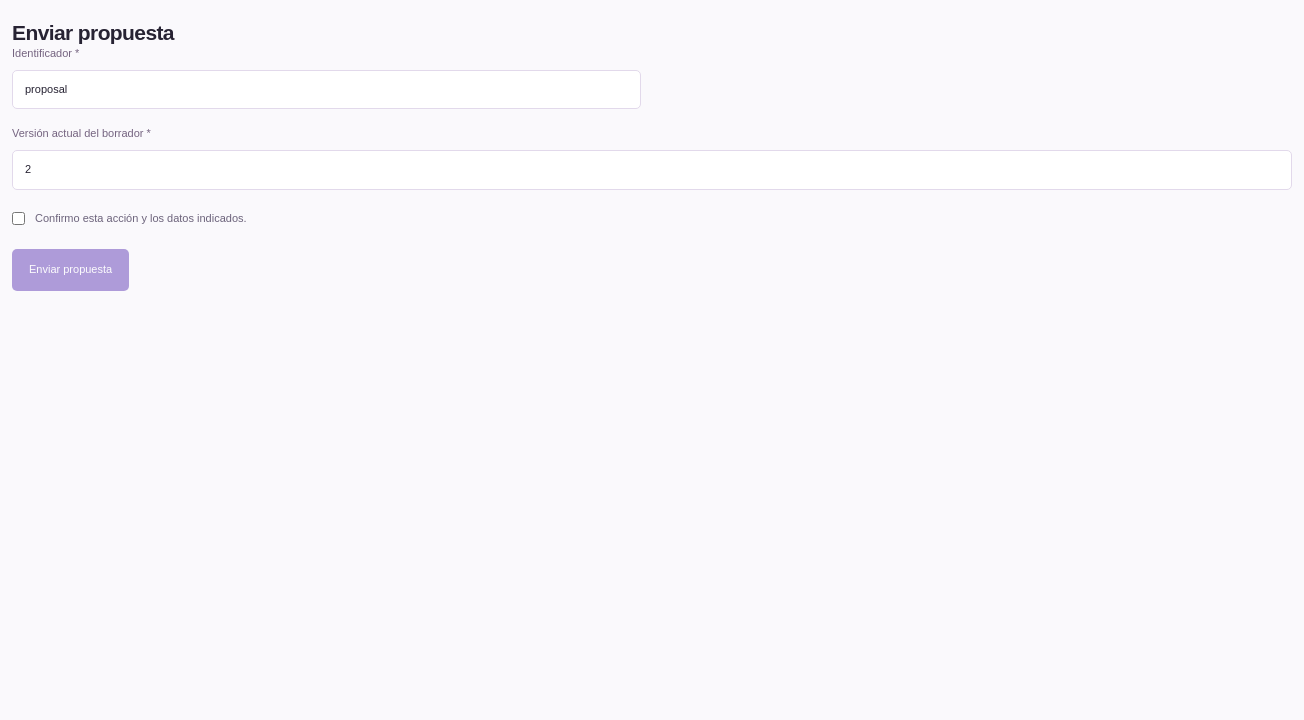
Test case: contribuciones y privacidad › reintentar un envío conserva la clave de idempotencia y no anuncia publicación
Click the checkbox at coordinates (18, 218), box [12,212,25,225]
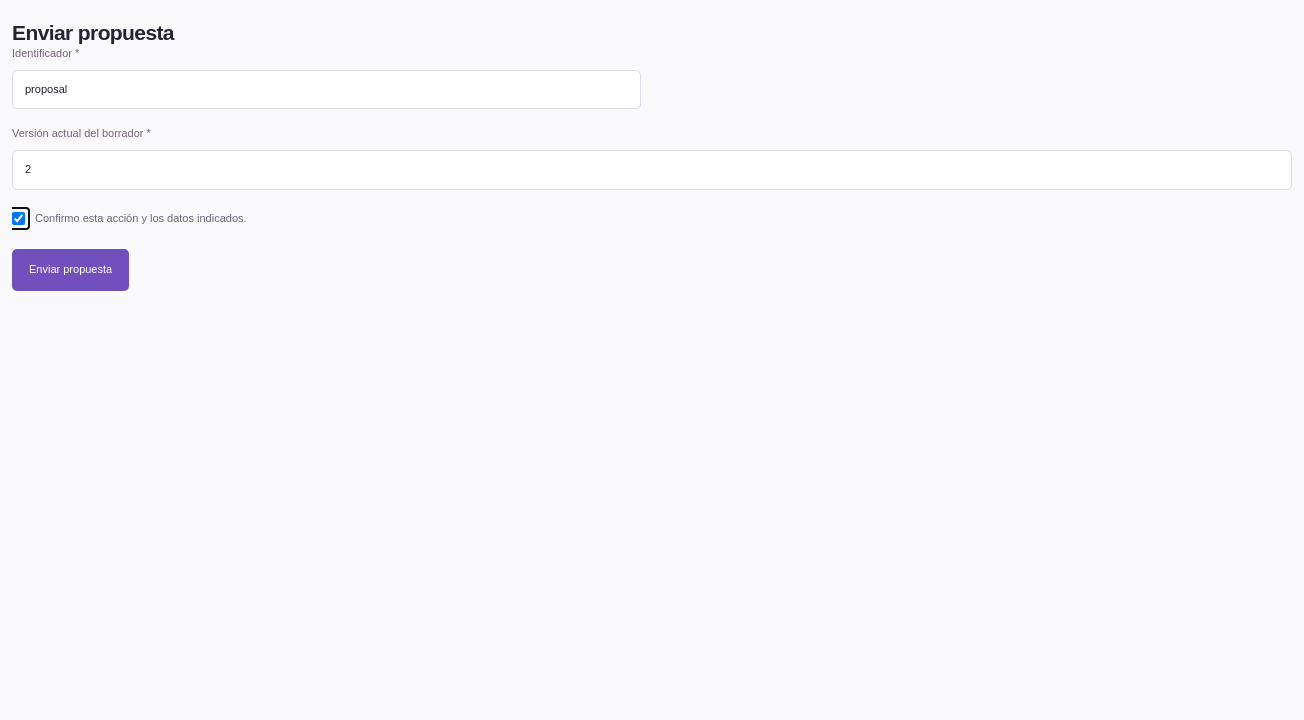
Click the button "Enviar propuesta" at coordinates (71, 270), box [12,249,129,291]
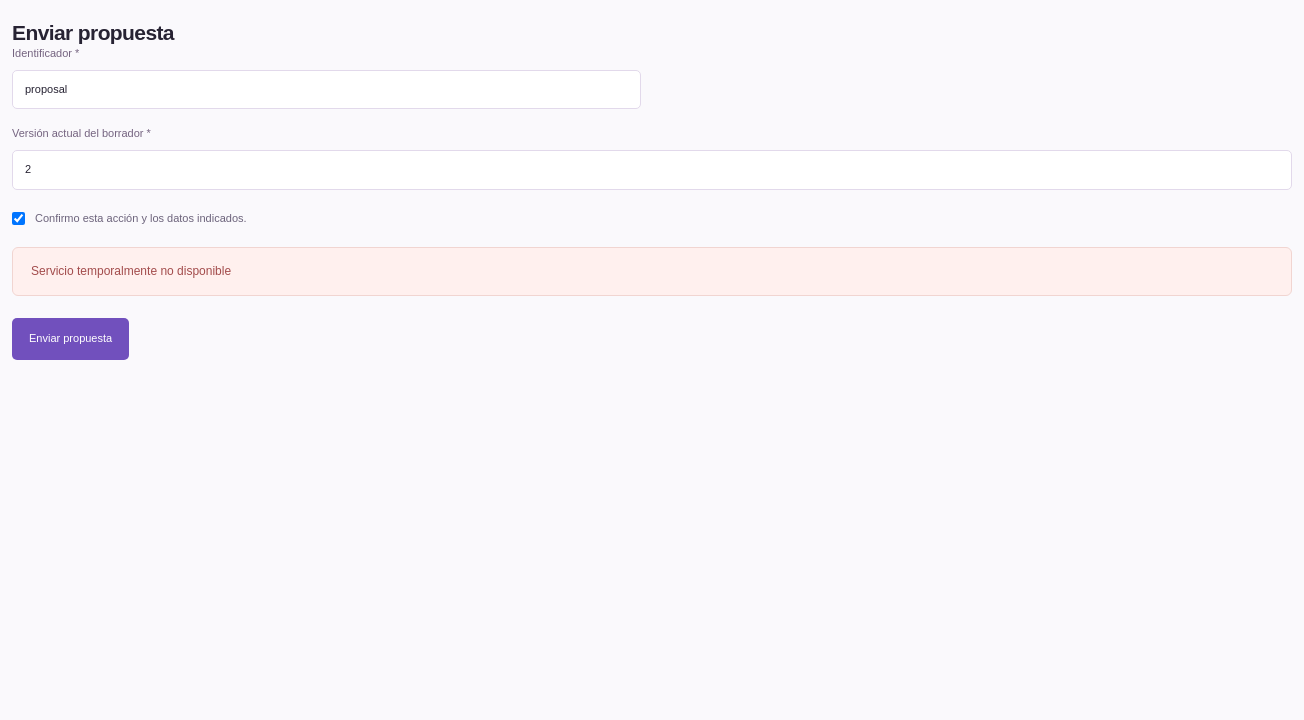
Expected: the message reads "Servicio temporalmente no disponible", [31,264,231,278]
Click the button "Enviar propuesta" at coordinates (71, 339), box [12,318,129,360]
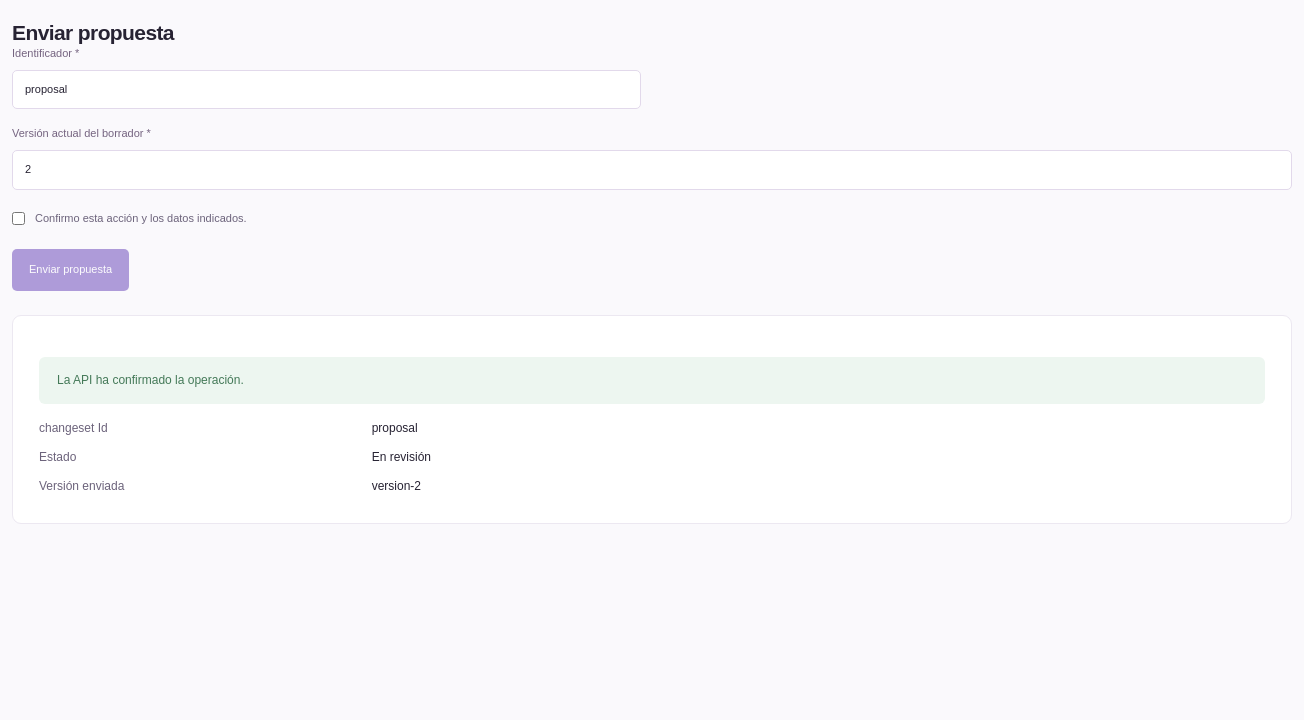
Expected: the message reads "La API ha confirmado la operación.", [57,373,244,387]
